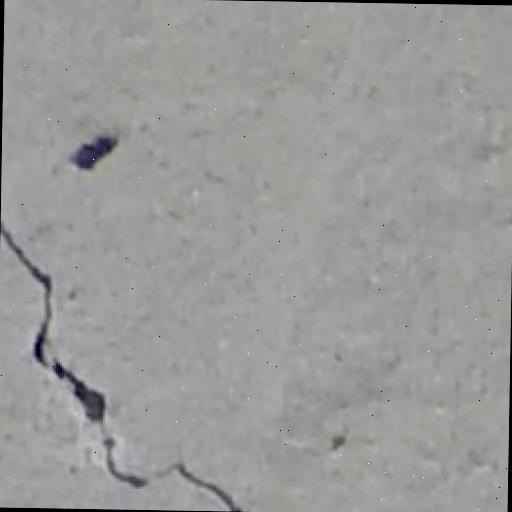spalling: (6, 211, 253, 507)
